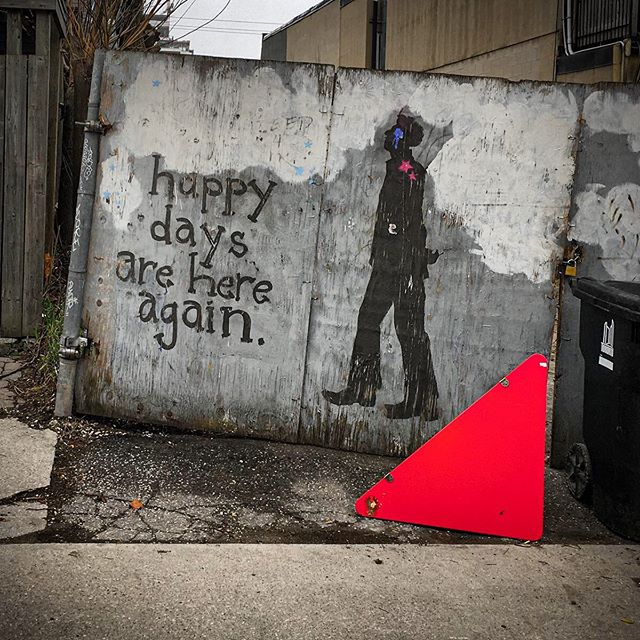graffiti: (102, 133, 289, 371), (317, 107, 452, 427)
lock: (554, 259, 583, 279)
trash can: (567, 272, 640, 544)
